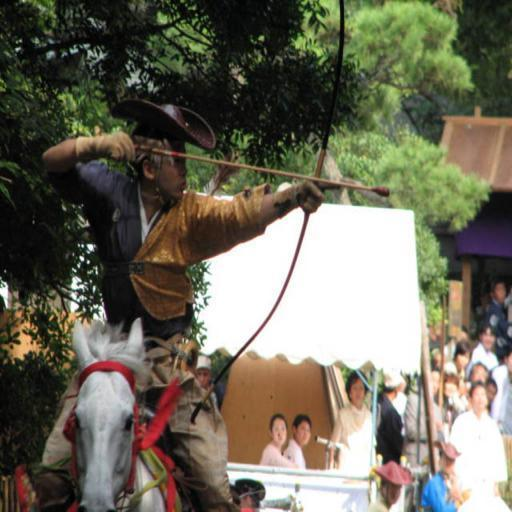horse: (70, 316, 188, 510)
